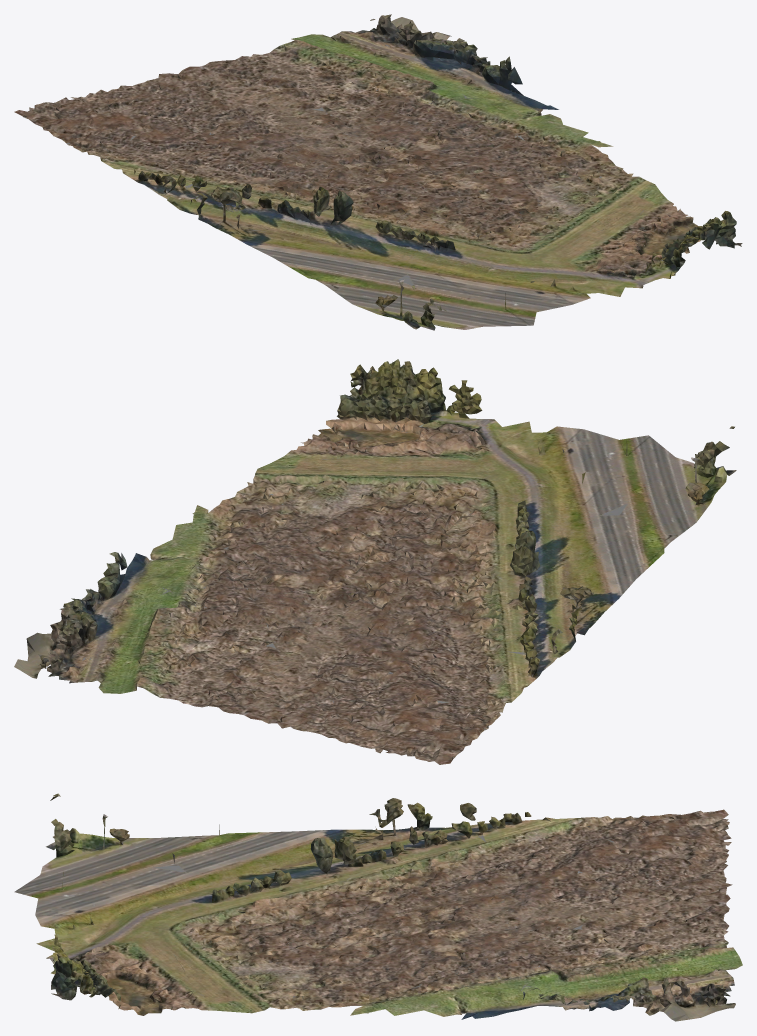
The model's file is Tile_004_011_L18.gltf.
3 views of the same model, one above another, from view 1: azimuth 30°, elevation 25°; view 2: azimuth 150°, elevation 25°; view 3: azimuth 270°, elevation 25° (orthographic). The views are drawn at different scales.
Visible parts, largest first — view 1: Tile_+004_+011_L18; view 2: Tile_+004_+011_L18; view 3: Tile_+004_+011_L18.
Part boxes in pixels (bbox=[...]): Tile_+004_+011_L18: bbox=[14, 14, 742, 330]; Tile_+004_+011_L18: bbox=[14, 359, 736, 764]; Tile_+004_+011_L18: bbox=[14, 793, 742, 1021].
Size of the model in its own units: 146 by 20.63 by 219.
1 material, 1 textured.
